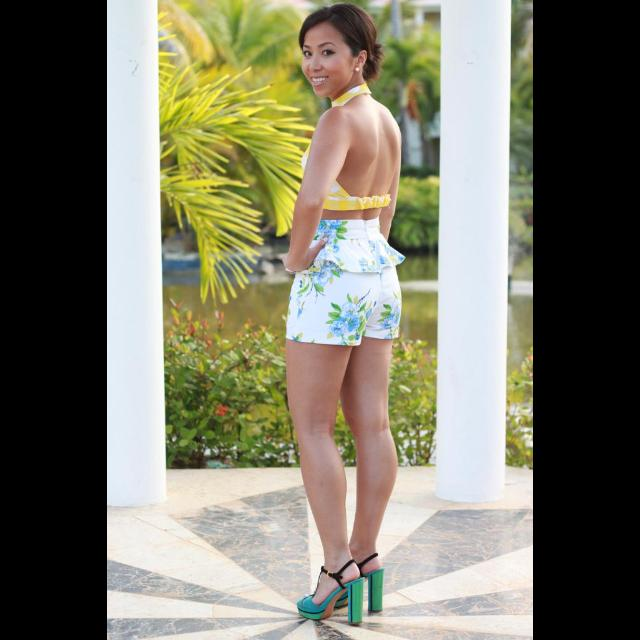Flower: (216, 402, 228, 418)
